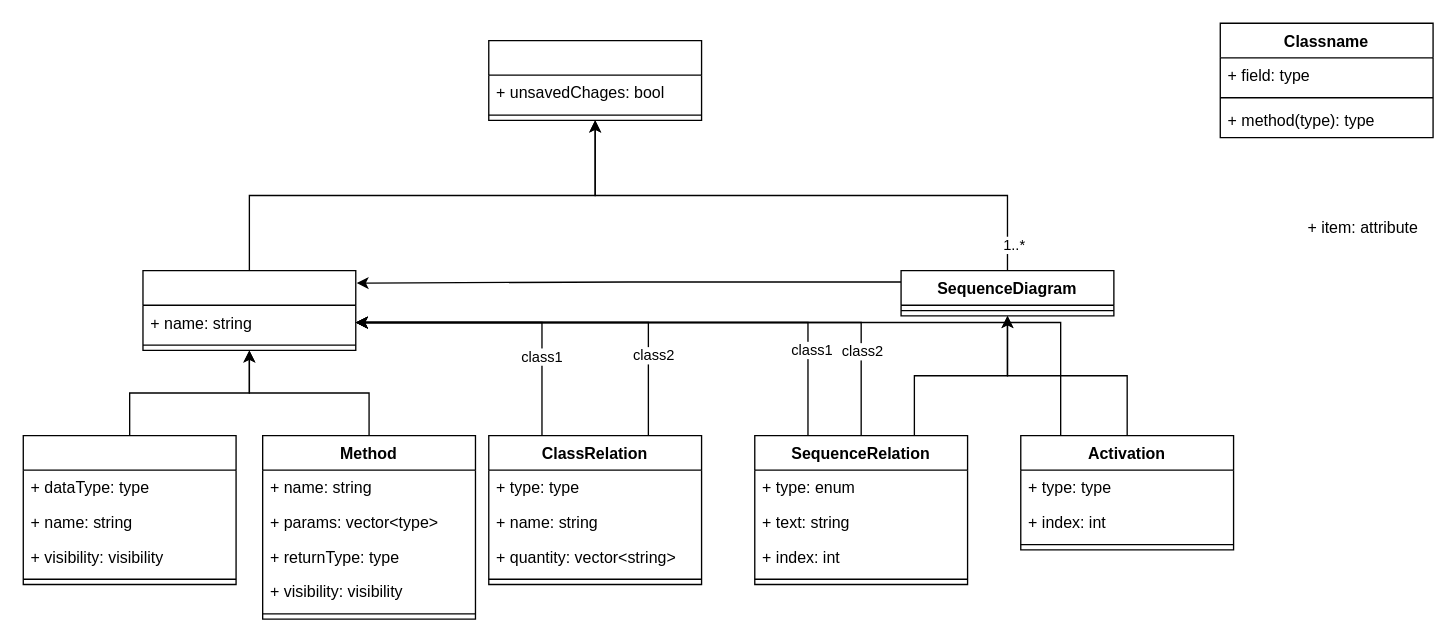
This 1456x642 diagram has some shape labels left out. Each missing label, with the box of its shape:
Attribute: (22, 434, 236, 585)
Class: (142, 269, 356, 350)
Diagram: (487, 39, 702, 120)
